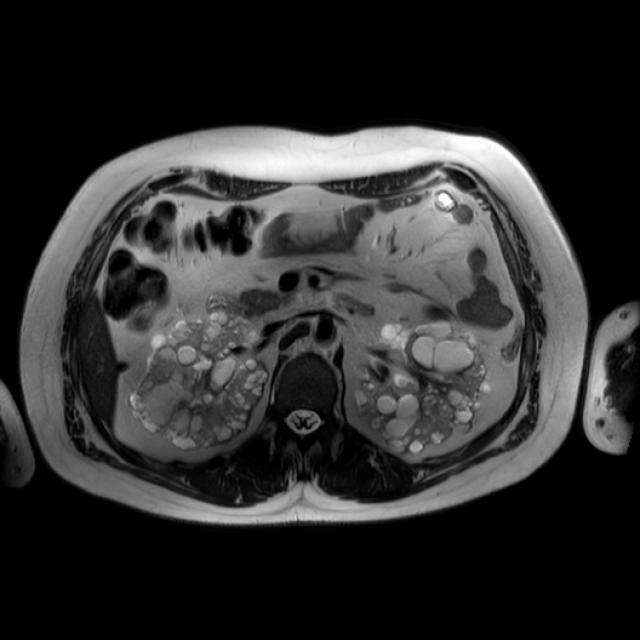sag: (133, 314, 269, 449)
sol: (358, 323, 488, 455)
